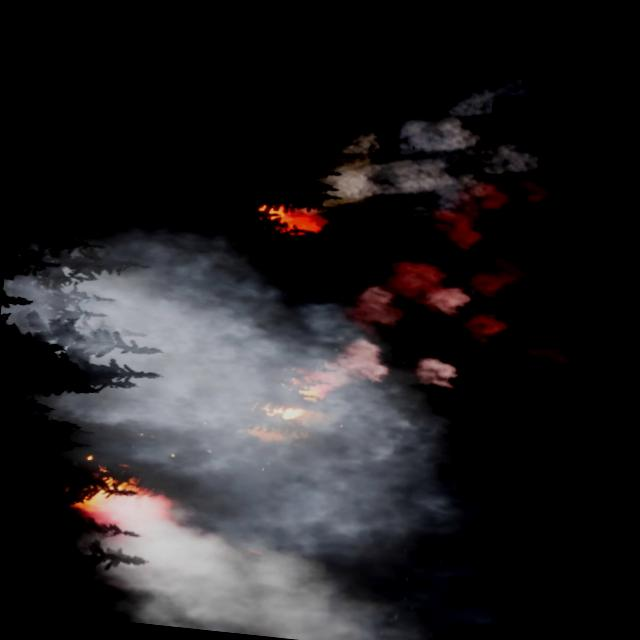fire: (72, 466, 180, 534), (256, 199, 328, 242)
smoke: (0, 30, 614, 640)
